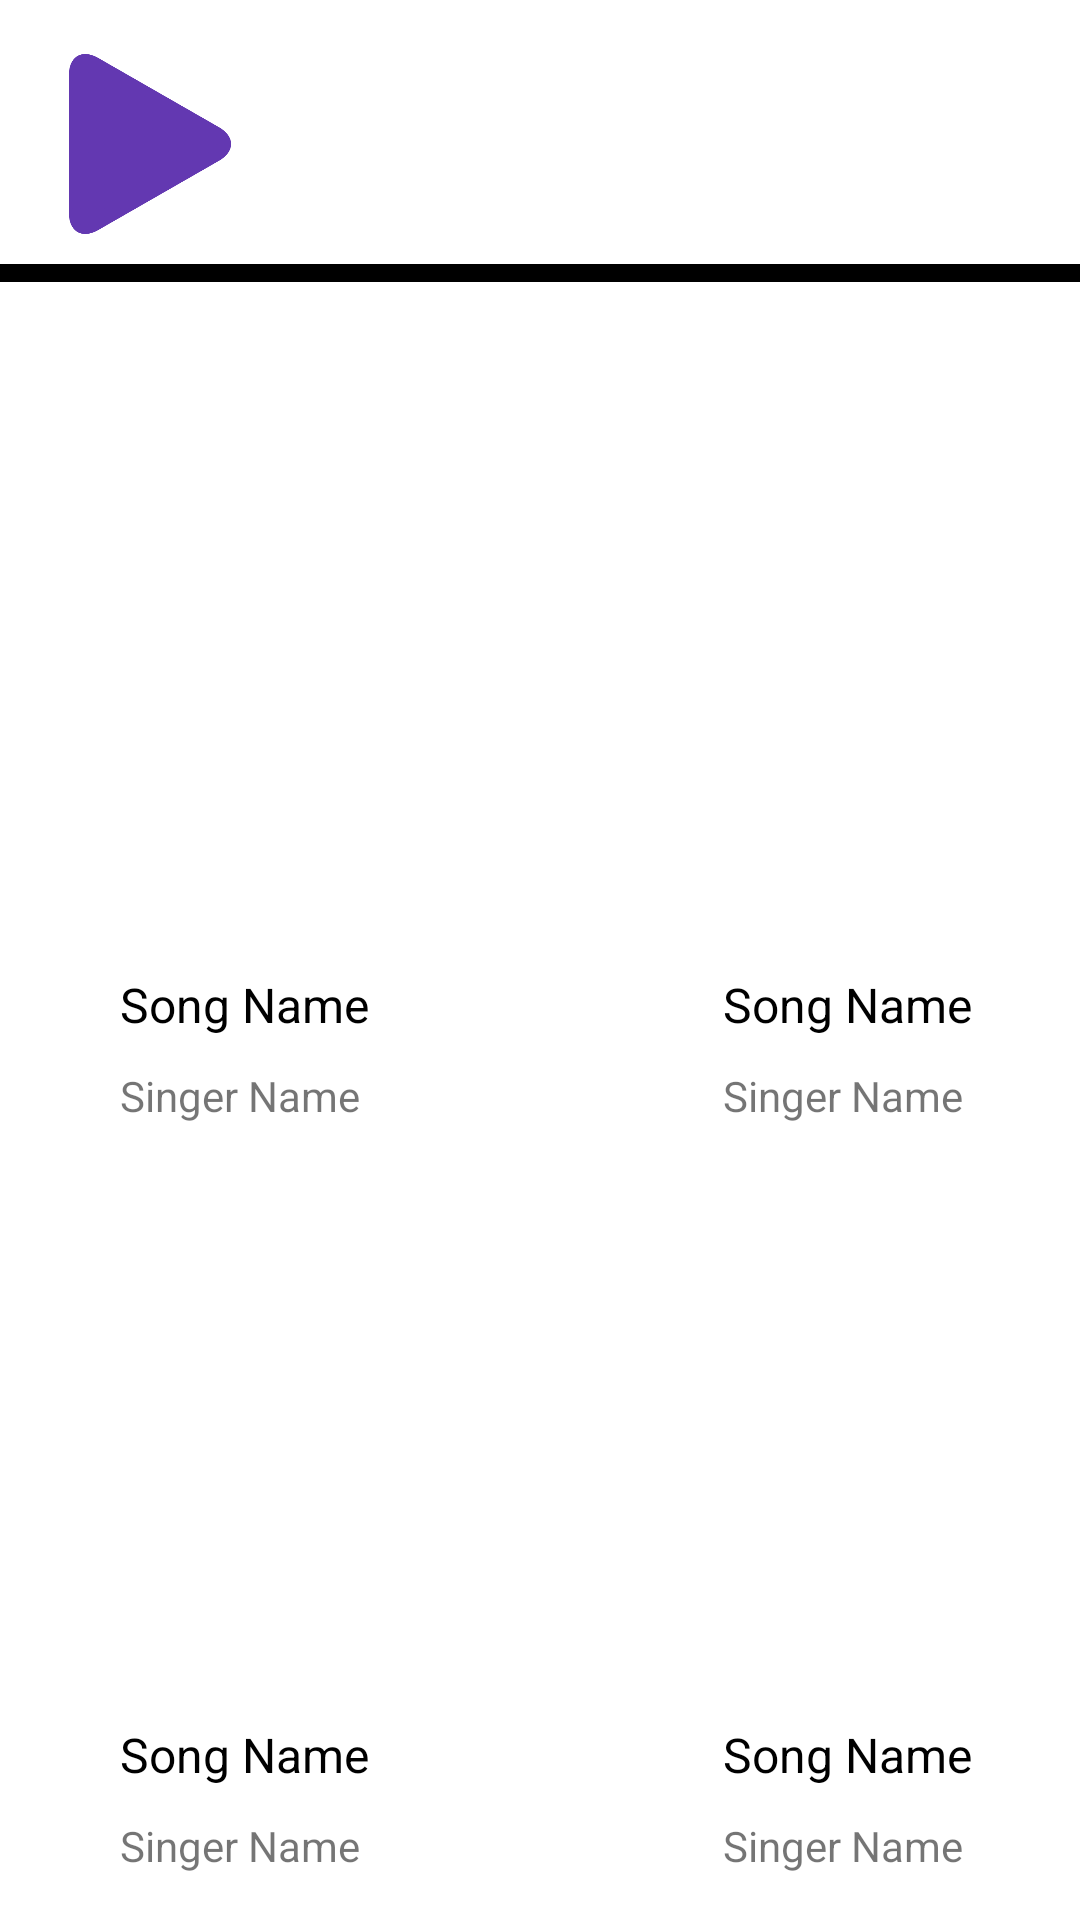

Icons on this 1080px x 1920px Android screen, each with the point to tap as (x=x, y=y):
play: (x=150, y=144)
